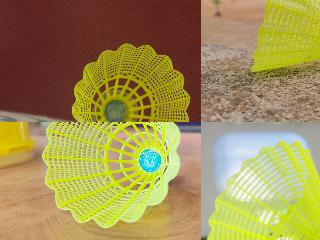shuttlecock: (41, 122, 182, 228), (207, 140, 319, 239), (70, 43, 190, 121), (250, 0, 319, 73)
